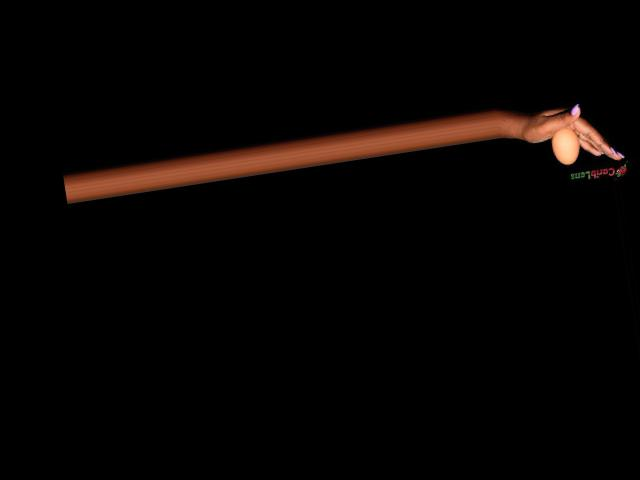egg: (549, 126, 582, 166)
